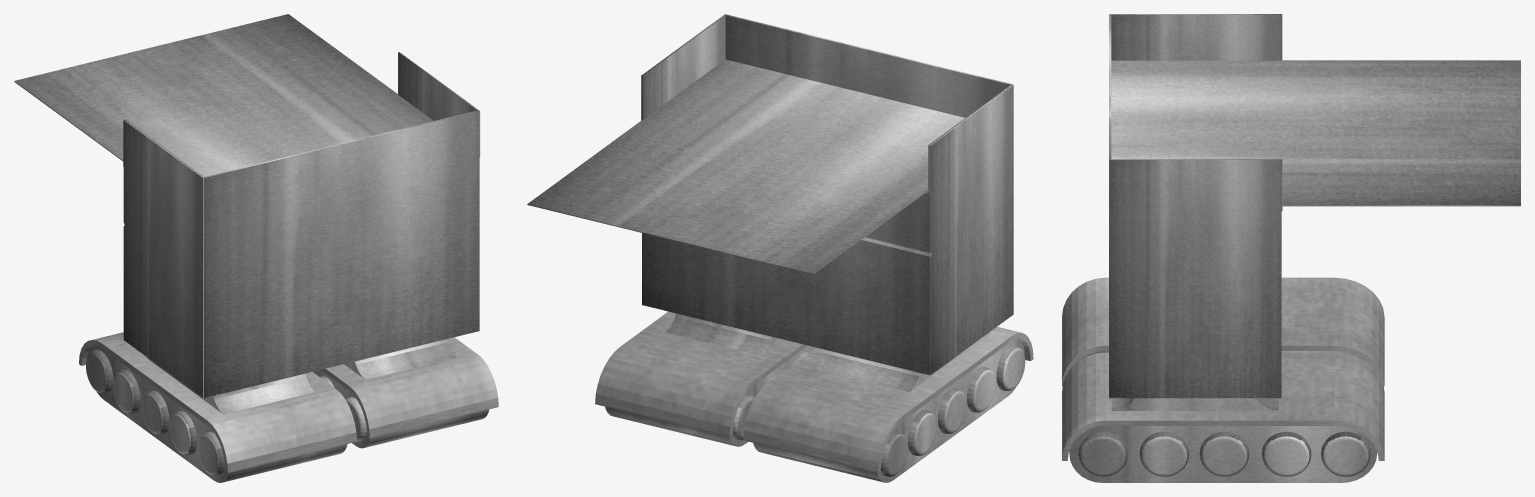
The model's file is car1.obj.
The picture shows the model from 3 angles, left to right: view 1: azimuth 30°, elevation 25°; view 2: azimuth 150°, elevation 25°; view 3: azimuth 270°, elevation 25°; orthographic projection. The views are drawn at different scales.
Parts seen in each view (by area): view 1: Obj3d66_560254_5_352, Rectangle001, Line001, Obj3d66_560254_107_441, Obj3d66_560254_21_224, Obj3d66_560254_109_418, Obj3d66_560254_108_285, Obj3d66_560254_20_646, Obj3d66_560254_194_527, Obj3d66_560254_114_760, Obj3d66_560254_111_512, Obj3d66_560254_110_287 (+2 smaller); view 2: Rectangle001, Obj3d66_560254_5_352, Line001, Obj3d66_560254_107_441, Obj3d66_560254_21_224, Obj3d66_560254_109_418, Obj3d66_560254_108_285, Obj3d66_560254_20_646, Obj3d66_560254_194_527, Obj3d66_560254_113_57, Obj3d66_560254_112_751, Obj3d66_560254_111_512 (+3 smaller); view 3: Rectangle001, Obj3d66_560254_5_352, Line001, Obj3d66_560254_21_224, Obj3d66_560254_107_441, Obj3d66_560254_194_527, Obj3d66_560254_20_646, Obj3d66_560254_172_435, Obj3d66_560254_1_280, Obj3d66_560254_97_429, Obj3d66_560254_195_826, Obj3d66_560254_98_200.
Part boxes in pixels (x1,y1,x2,y2): Obj3d66_560254_5_352: (123, 157, 479, 398); Rectangle001: (14, 14, 433, 176); Line001: (123, 52, 480, 224); Obj3d66_560254_107_441: (79, 332, 356, 472); Obj3d66_560254_21_224: (321, 337, 498, 438); Obj3d66_560254_109_418: (87, 345, 347, 482); Obj3d66_560254_108_285: (146, 357, 314, 414); Obj3d66_560254_20_646: (344, 339, 456, 379); Obj3d66_560254_194_527: (313, 370, 489, 448); Obj3d66_560254_114_760: (142, 390, 169, 434); Obj3d66_560254_111_512: (113, 369, 140, 413); Obj3d66_560254_110_287: (86, 349, 113, 393); Rectangle001: (527, 59, 964, 274); Obj3d66_560254_5_352: (642, 134, 1013, 375); Line001: (641, 14, 1013, 194); Obj3d66_560254_107_441: (743, 327, 1033, 472); Obj3d66_560254_21_224: (595, 311, 807, 436); Obj3d66_560254_109_418: (753, 338, 1024, 482); Obj3d66_560254_108_285: (814, 332, 989, 391); Obj3d66_560254_20_646: (665, 313, 783, 355); Obj3d66_560254_194_527: (605, 345, 815, 446); Obj3d66_560254_113_57: (967, 366, 995, 412); Obj3d66_560254_112_751: (996, 345, 1025, 390); Obj3d66_560254_111_512: (908, 410, 936, 455); Rectangle001: (1111, 60, 1520, 206); Obj3d66_560254_5_352: (1109, 211, 1281, 398); Line001: (1109, 14, 1282, 211); Obj3d66_560254_21_224: (1062, 352, 1384, 460); Obj3d66_560254_107_441: (1062, 277, 1384, 386); Obj3d66_560254_194_527: (1069, 426, 1377, 482); Obj3d66_560254_20_646: (1111, 398, 1278, 410); Obj3d66_560254_172_435: (1261, 431, 1311, 476); Obj3d66_560254_1_280: (1199, 431, 1249, 476); Obj3d66_560254_97_429: (1078, 431, 1127, 476); Obj3d66_560254_195_826: (1321, 431, 1370, 476); Obj3d66_560254_98_200: (1139, 431, 1189, 476).
Bounding box in the file's own units: 217 × 226 × 288.
1 material, 1 textured.
